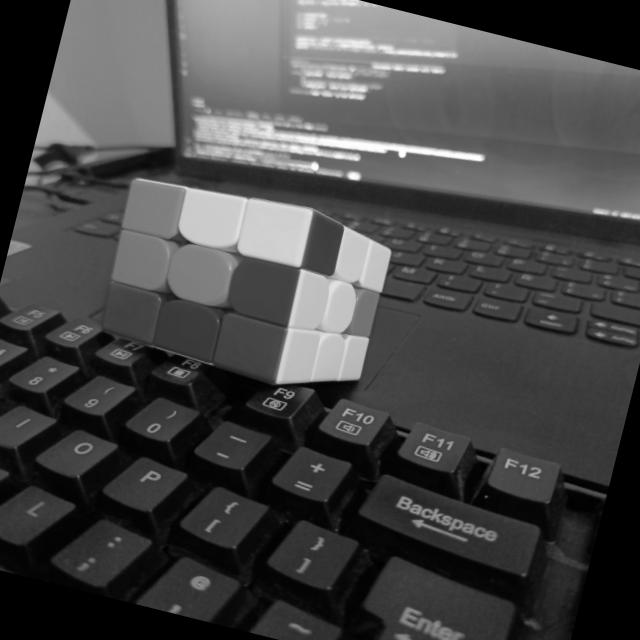rubik: (89, 162, 400, 405)
